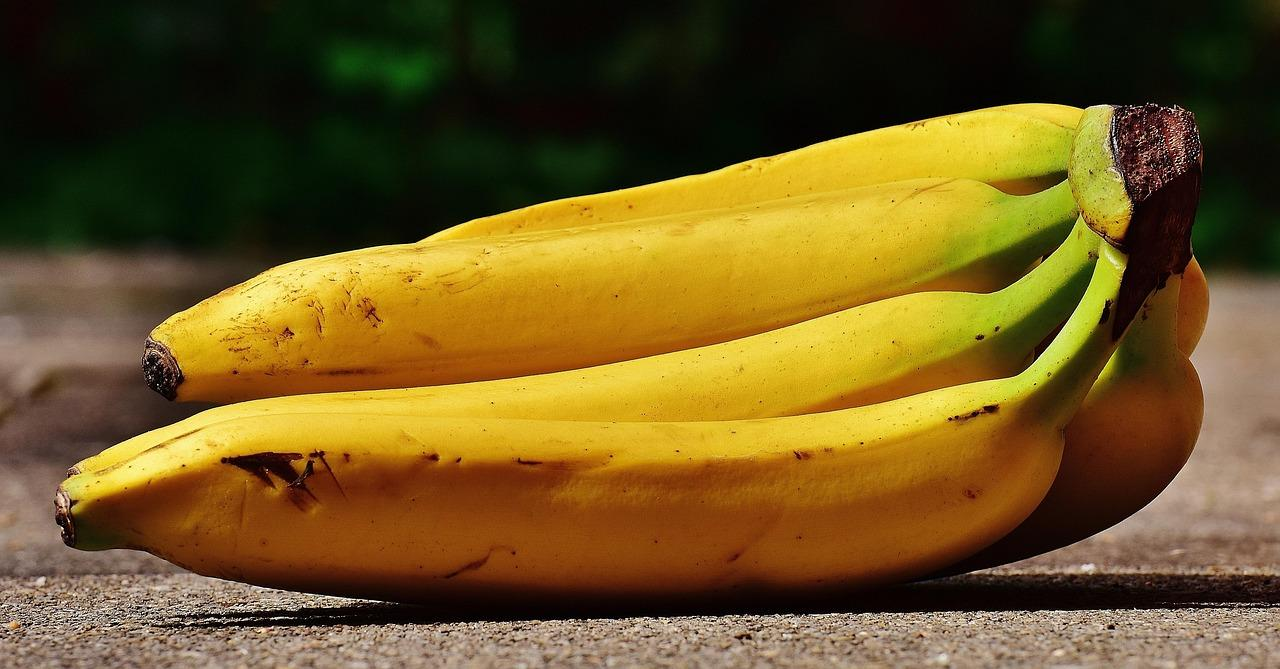banana: (44, 99, 1227, 607)
